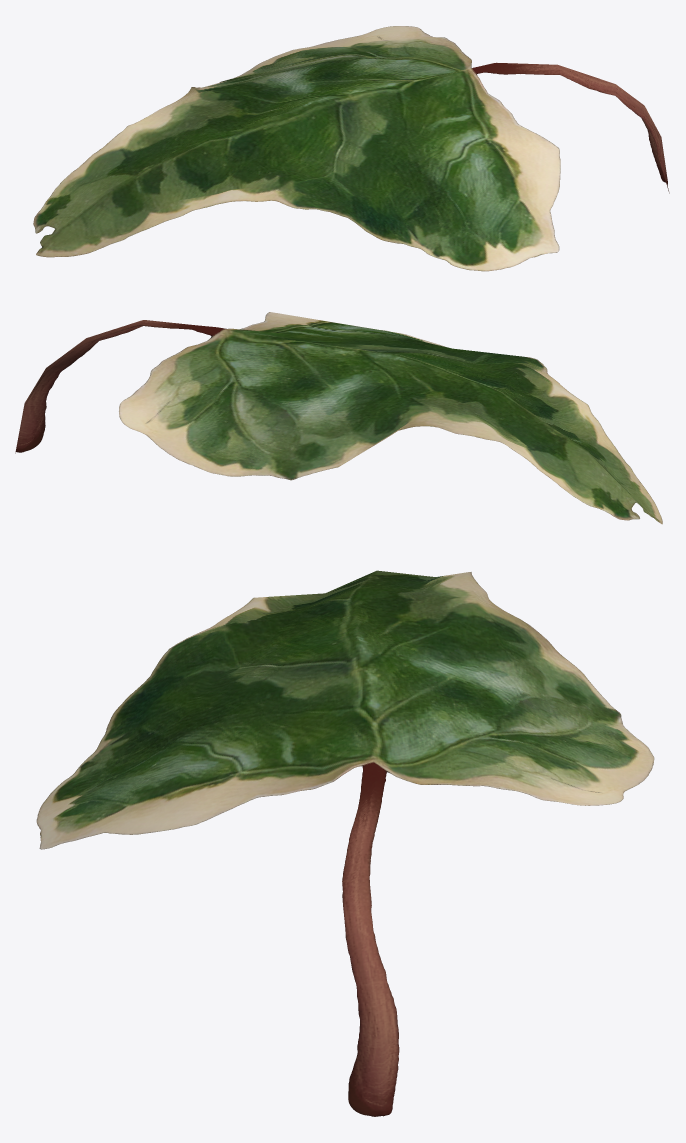
Rendered from hedraleave3.fbx.
The picture shows the model from 3 angles, top to bottom: view 1: azimuth 30°, elevation 25°; view 2: azimuth 150°, elevation 25°; view 3: azimuth 270°, elevation 25°; orthographic projection. The views are drawn at different scales.
Parts seen in each view (by area): view 1: hedraleave3; view 2: hedraleave3; view 3: hedraleave3.
Boxes of the visible parts, x1=… form: hedraleave3: x1=33, y1=26, x2=669, y2=271; hedraleave3: x1=15, y1=312, x2=662, y2=524; hedraleave3: x1=36, y1=570, x2=654, y2=1116.
Size of the model in its own units: 0.905 by 0.2461 by 0.5907.
